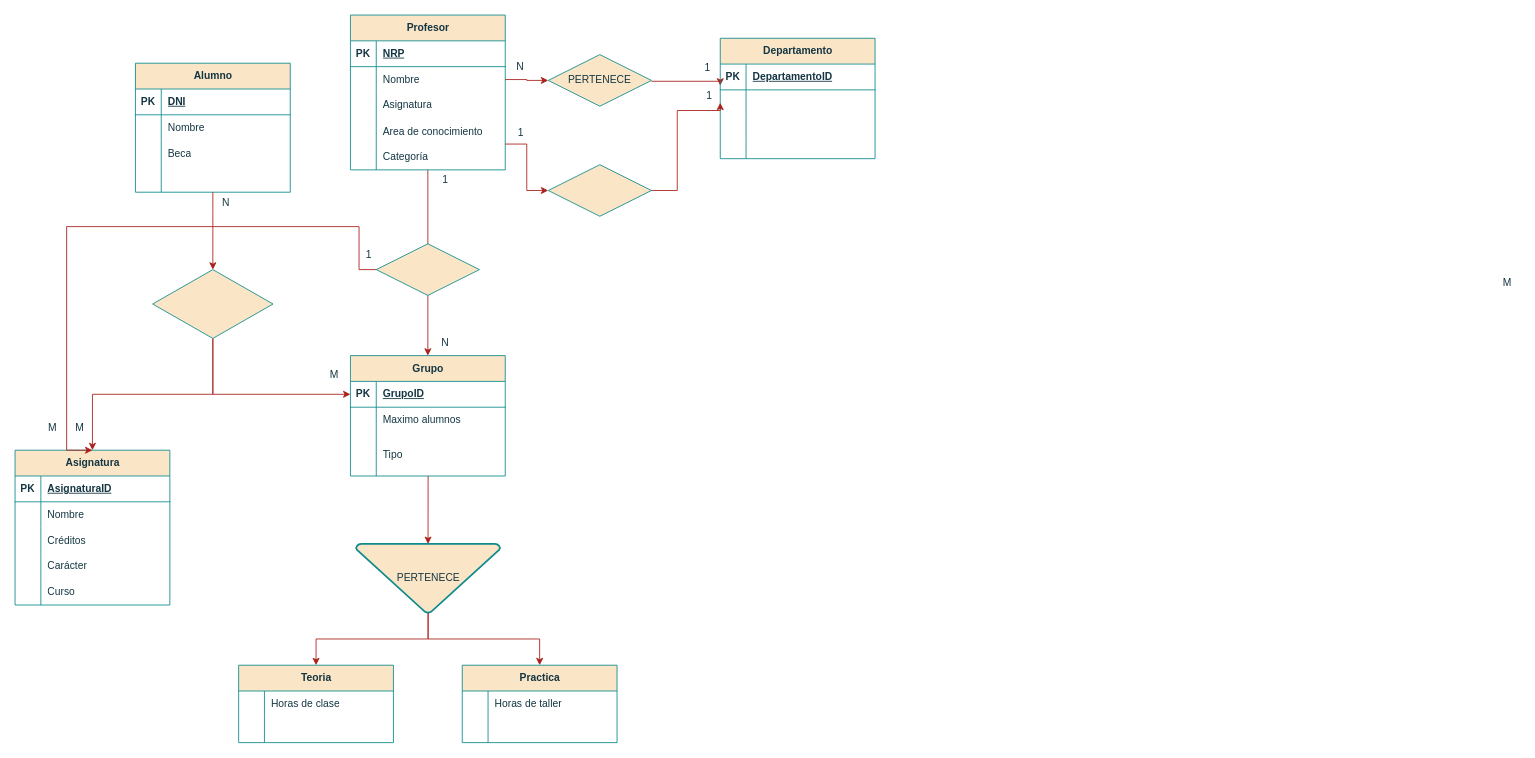
Some shapes in this 1535 by 758 pixel diagram are drawn without their labels. The shapes that lost their labels are listed below. From the top down, each one's centre as x and y in pixels, then its label:
At (x=599, y=190): "DIRIGUE".
At (x=427, y=269): "IMPARTE EN".
At (x=212, y=303): "PERTENECE A".
